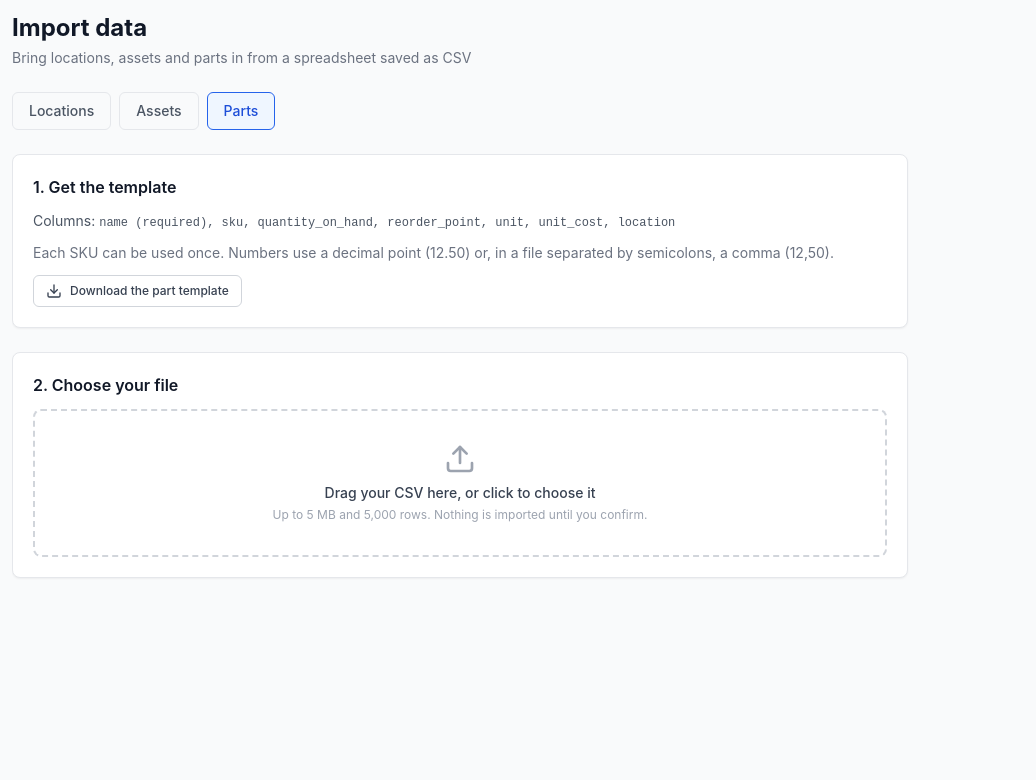
Test: ImportPage › opens on the kind it was linked to, and switches between them
The image size is (1036, 780).
Expected: the tab "Parts" is shown, [207, 92, 275, 130]
Expected: the text "Each SKU can be used once" is shown, [33, 244, 834, 261]
Click the tab "Locations" at coordinates (62, 111), box [12, 92, 111, 130]
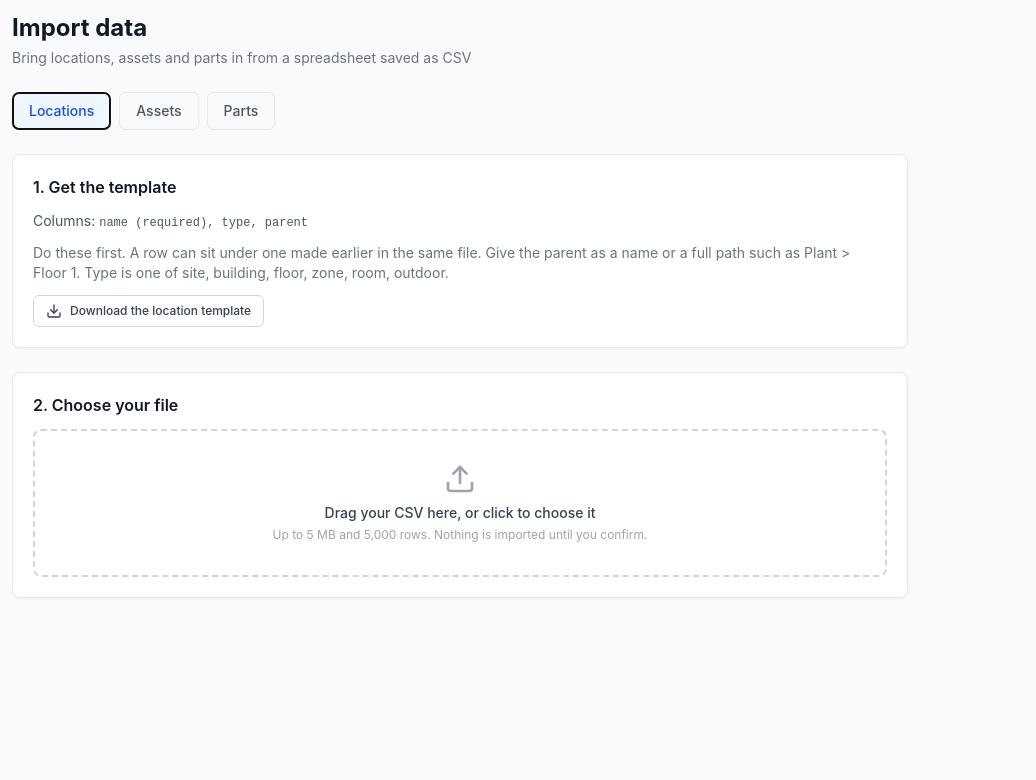
Now the text "Do these first" is shown, box [33, 244, 850, 281]
